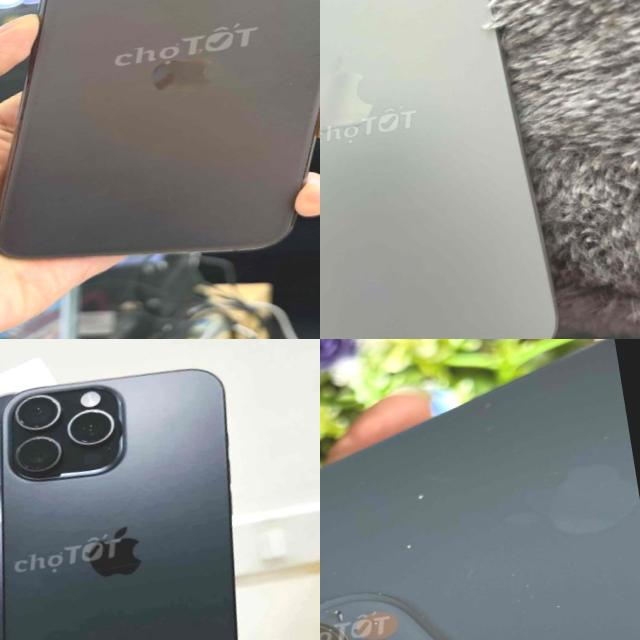scratch: (490, 556, 578, 624), (473, 397, 505, 440), (409, 488, 430, 504), (400, 541, 418, 552)
